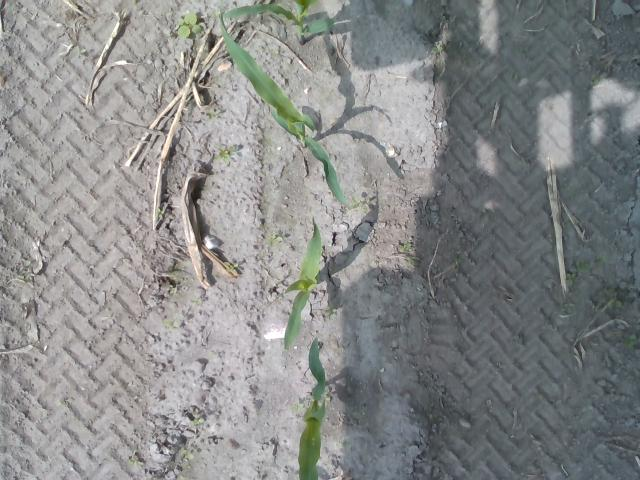Maize: (218, 12, 346, 206), (284, 214, 323, 352), (221, 0, 334, 46), (294, 335, 328, 480)
Weeds: (174, 12, 203, 37), (576, 256, 605, 272), (604, 288, 624, 308), (401, 242, 416, 264), (215, 144, 230, 160), (622, 334, 638, 348), (590, 72, 606, 85), (325, 306, 337, 320), (224, 261, 239, 272), (271, 232, 285, 243), (192, 419, 202, 428), (164, 320, 174, 329), (567, 271, 577, 279), (156, 207, 163, 218), (290, 404, 302, 410), (128, 457, 136, 465)
